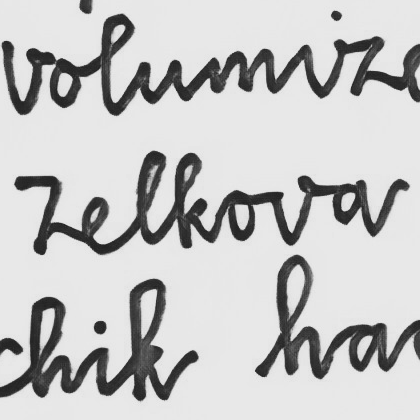a: (328, 177, 373, 229)
e: (78, 194, 120, 257)
k: (172, 150, 213, 250)
l: (131, 148, 168, 247)
o: (224, 187, 258, 243)
v: (268, 172, 315, 250)
z: (12, 172, 72, 258)
